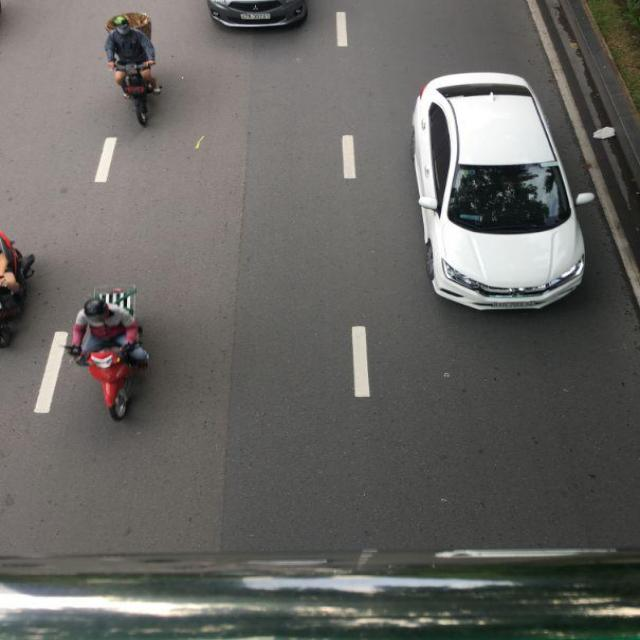car: (401, 71, 613, 318), (205, 0, 307, 33)
motorcycle: (86, 341, 150, 421), (117, 62, 160, 128)
